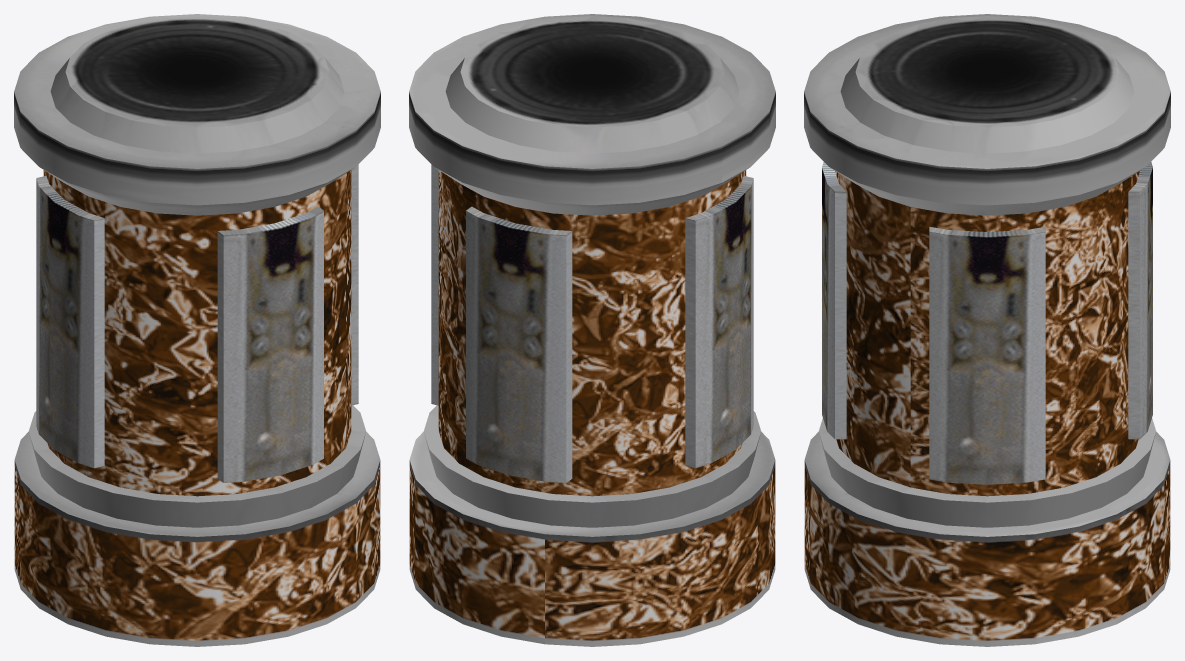
Rendered from core.DAE.
3 views of the same model, side by side, from view 1: azimuth 30°, elevation 25°; view 2: azimuth 150°, elevation 25°; view 3: azimuth 270°, elevation 25° (orthographic).
Parts seen in each view (by area): view 1: Cylinder01-Pivot; view 2: Cylinder01-Pivot; view 3: Cylinder01-Pivot.
Boxes of the visible parts, x1,y1,x2,y2 form: Cylinder01-Pivot: [14, 14, 380, 646]; Cylinder01-Pivot: [409, 14, 775, 646]; Cylinder01-Pivot: [804, 14, 1170, 646].
Size of what is drawn, in the model's own units: 0.656 by 0.9826 by 0.656.
